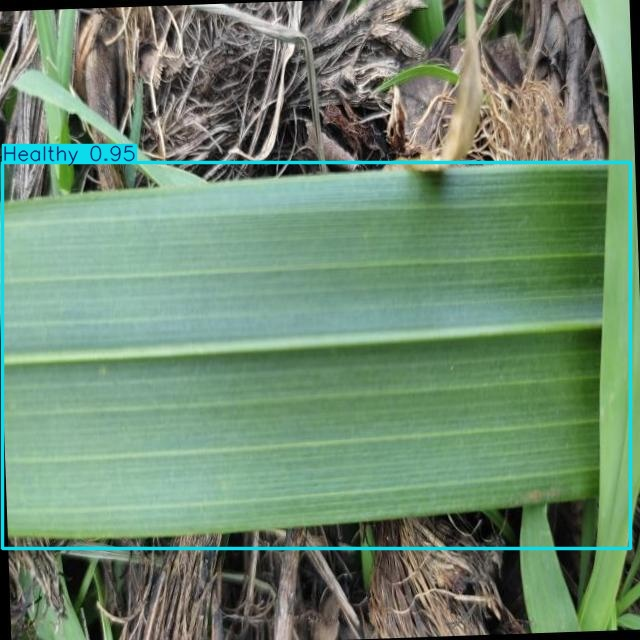Healthy: (2, 162, 631, 549)
